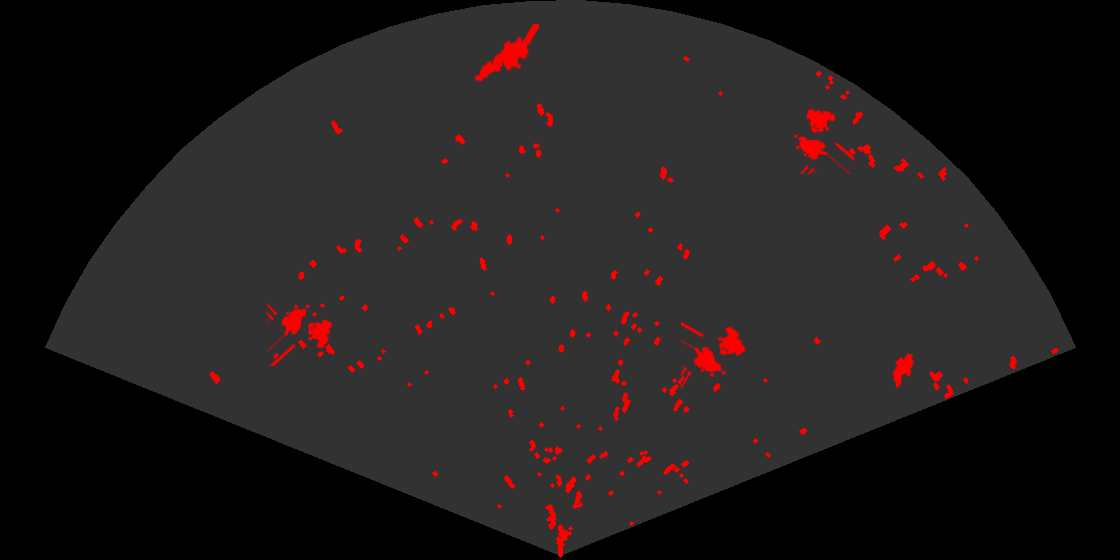AUV: (891, 351, 916, 390)
cage: (681, 320, 747, 392), (267, 301, 334, 366), (792, 107, 854, 174)
frogman: (473, 24, 539, 84)
